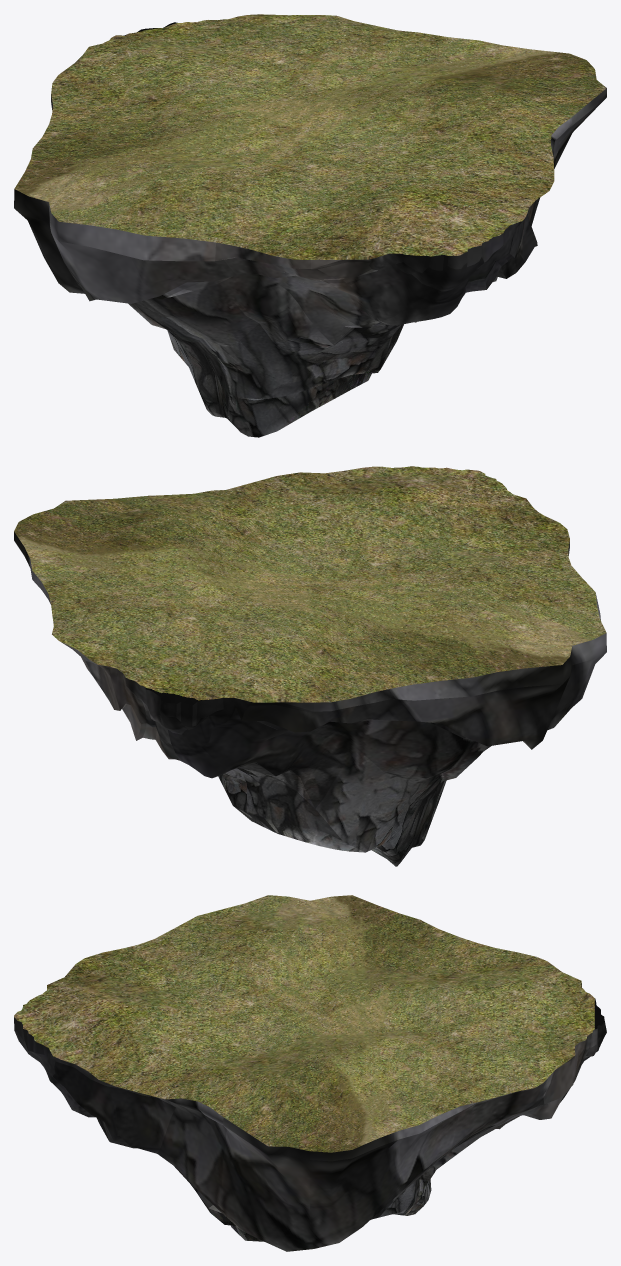
Rendered from willD_island.fbx.
The picture shows the model from 3 angles, top to bottom: view 1: azimuth 30°, elevation 25°; view 2: azimuth 150°, elevation 25°; view 3: azimuth 270°, elevation 25°; orthographic projection. The views are drawn at different scales.
Visible parts, largest first — view 1: island; view 2: island; view 3: island.
Part boxes in pixels (x1,y1,x2,y2): island: (14, 14, 606, 437); island: (14, 466, 606, 866); island: (14, 895, 606, 1251).
Bounding box in the file's own units: 62.04 × 29.2 × 60.33.
1 material, 1 textured.
